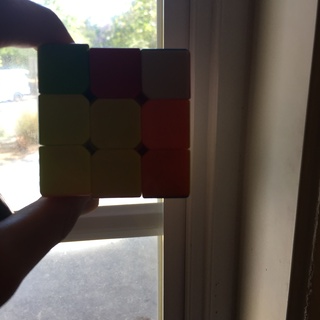face: (38, 46, 191, 199)
